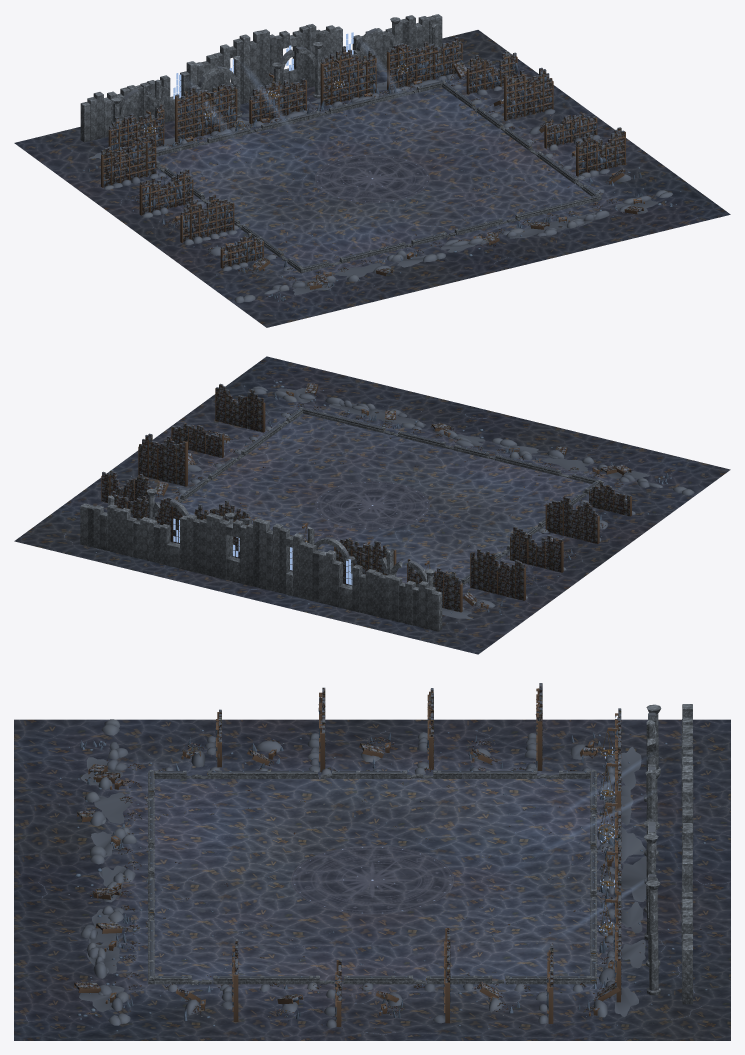
The model's file is archive.glb.
3 views of the same model, one above another, from view 1: azimuth 30°, elevation 25°; view 2: azimuth 150°, elevation 25°; view 3: azimuth 270°, elevation 25° (orthographic). The views are drawn at different scales.
Visible parts, largest first — view 1: FLOOR_ICE, BOUNDS_NORTH, BOUNDS_EAST, BOUNDS_WEST, BOUNDS_SOUTH, PROPS_FLOOR_SCATTER; view 2: FLOOR_ICE, BOUNDS_NORTH, BOUNDS_WEST, BOUNDS_EAST, BOUNDS_SOUTH, PROPS_FLOOR_SCATTER; view 3: FLOOR_ICE, BOUNDS_NORTH, BOUNDS_SOUTH, BOUNDS_EAST, BOUNDS_WEST, PROPS_FLOOR_SCATTER.
Part boxes in pixels (x1,y1,x2,y2): FLOOR_ICE: (14, 30, 730, 327); BOUNDS_NORTH: (80, 14, 469, 158); BOUNDS_EAST: (442, 46, 691, 218); BOUNDS_WEST: (70, 135, 302, 303); BOUNDS_SOUTH: (234, 190, 676, 303); PROPS_FLOOR_SCATTER: (172, 92, 586, 262); FLOOR_ICE: (14, 356, 730, 654); BOUNDS_NORTH: (80, 489, 473, 631); BOUNDS_WEST: (430, 473, 671, 631); BOUNDS_EAST: (48, 374, 323, 552); BOUNDS_SOUTH: (252, 380, 694, 495); PROPS_FLOOR_SCATTER: (195, 418, 577, 579); FLOOR_ICE: (14, 719, 730, 1040); BOUNDS_NORTH: (590, 704, 706, 1017); BOUNDS_SOUTH: (59, 719, 154, 1025); BOUNDS_EAST: (65, 928, 707, 1031); BOUNDS_WEST: (68, 683, 698, 779); PROPS_FLOOR_SCATTER: (159, 780, 585, 976).
Bounding box in the file's own units: 140 × 19.13 × 132.
11 materials, 4 textured.
